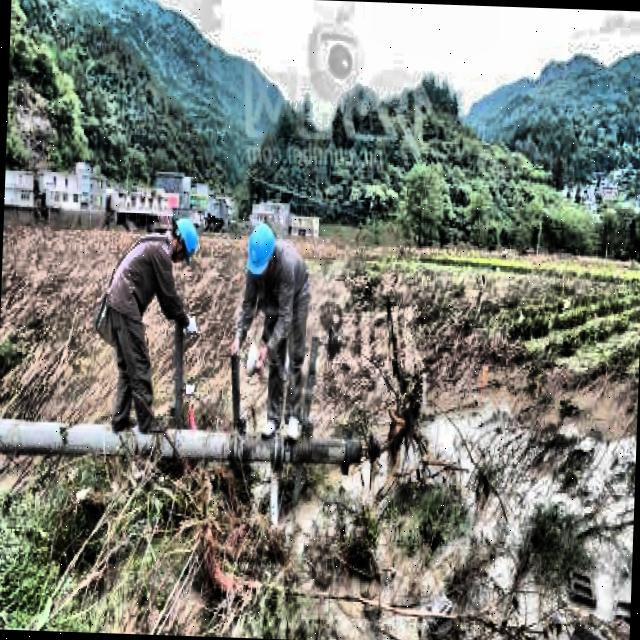helmet: (163, 214, 203, 268), (245, 214, 278, 278)
